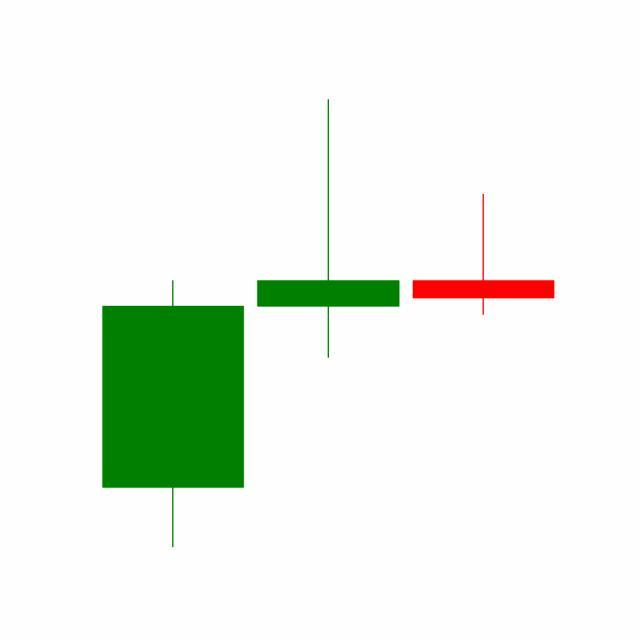Spinning Top: (250, 97, 407, 362)
